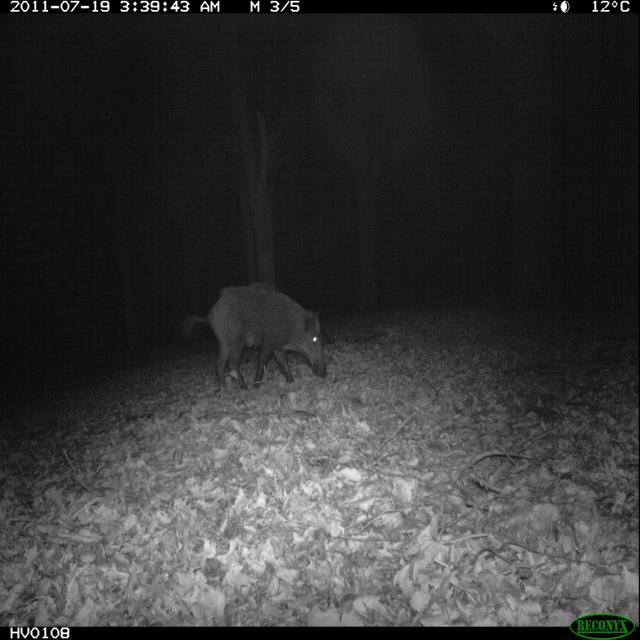boar: (182, 260, 346, 398)
